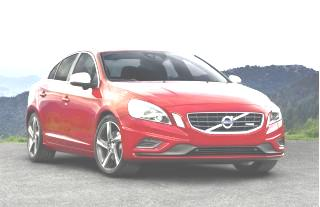volvo: (218, 111, 240, 134)
